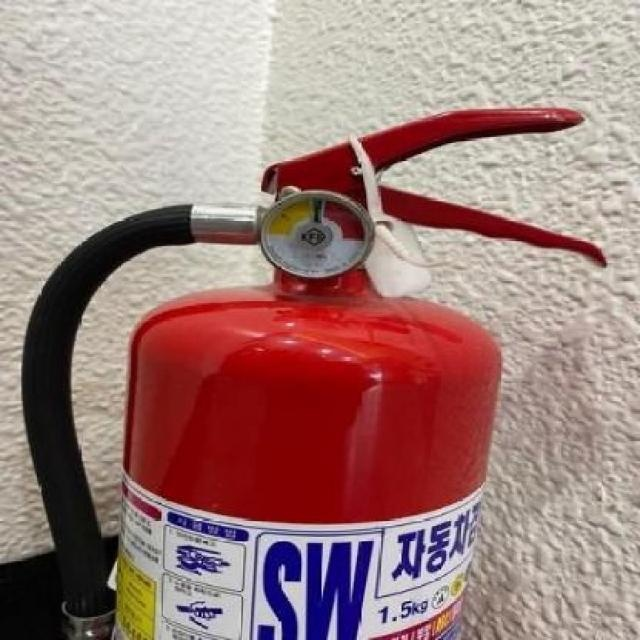fire extinguisher: (19, 107, 610, 640)
